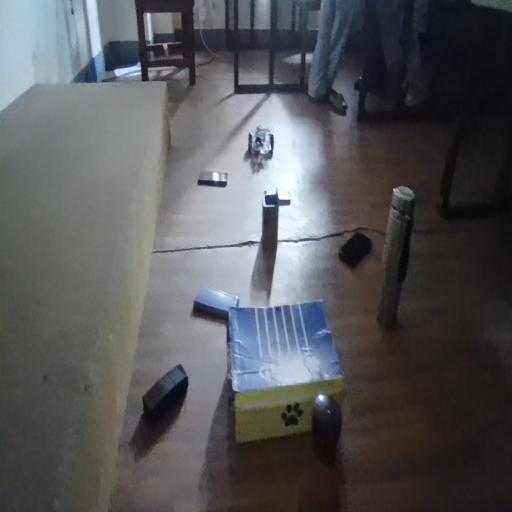car: (242, 125, 306, 173)
